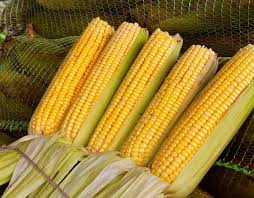milho: (48, 18, 251, 184)
